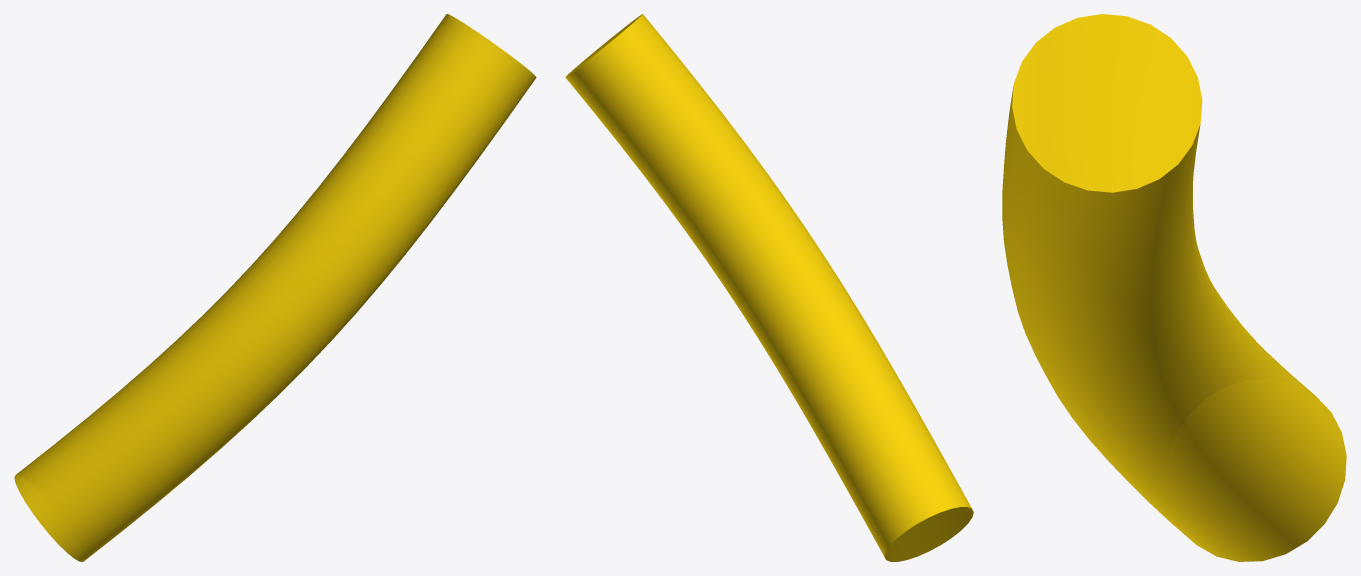
Rendered from Event_421127236_track_37.fbx.
3 views of the same model, side by side, from view 1: azimuth 30°, elevation 25°; view 2: azimuth 150°, elevation 25°; view 3: azimuth 270°, elevation 25° (orthographic). The views are drawn at different scales.
Visible parts, largest first — view 1: Model; view 2: Model; view 3: Model.
Boxes of the visible parts, x1,y1,x2,y2 form: Model: [14, 14, 536, 561]; Model: [565, 14, 973, 561]; Model: [1002, 14, 1346, 561].
Size of the model in its own units: 0.1954 by 0.1923 by 0.0721.
